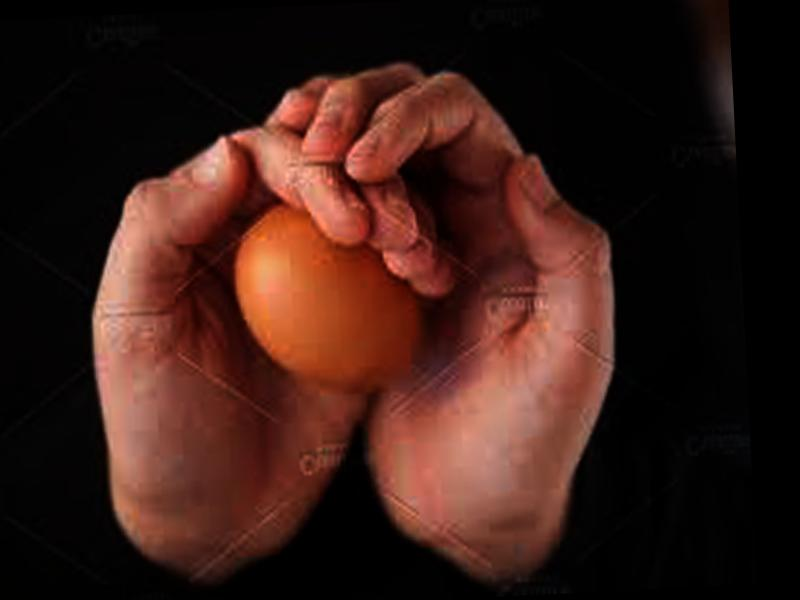Eggs: (229, 202, 436, 398)
